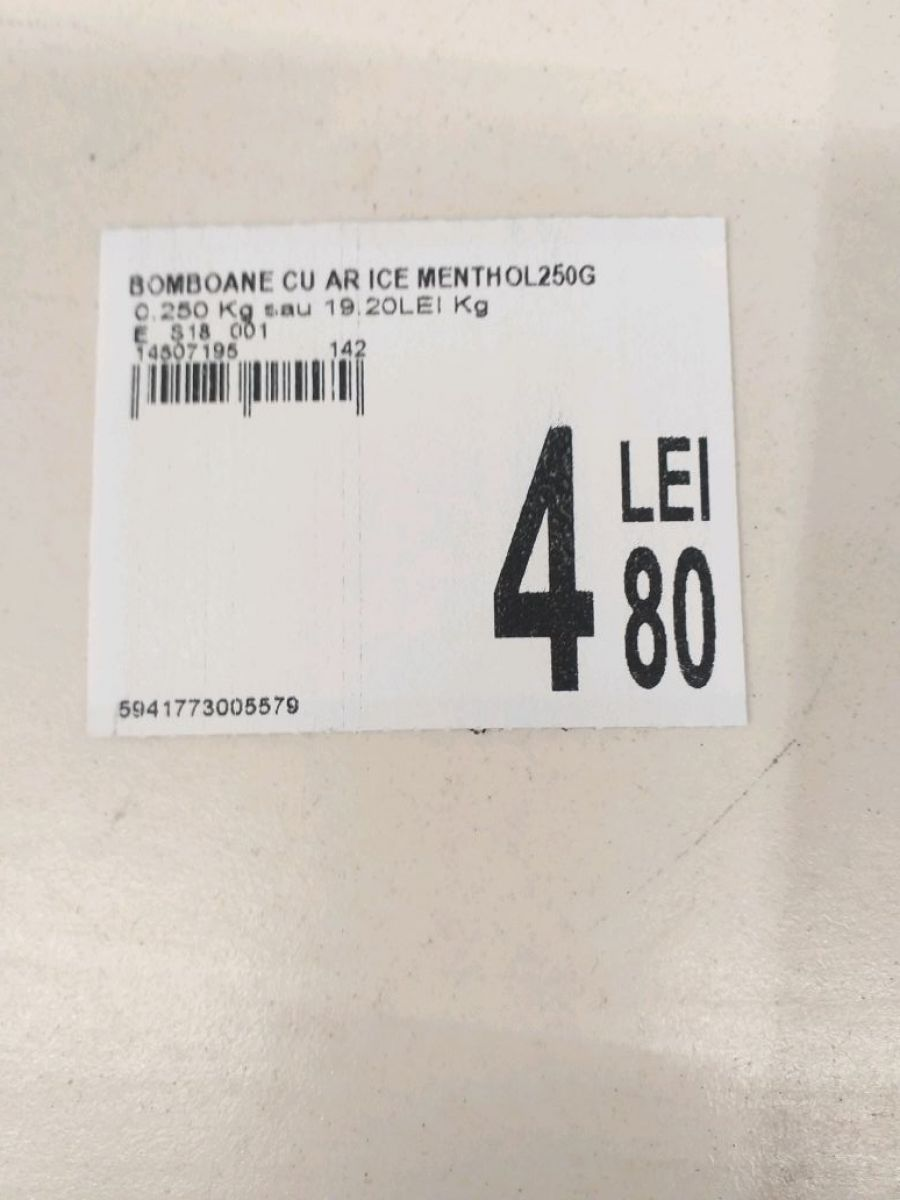bardcode: (113, 688, 304, 723)
list: (83, 215, 758, 747)
name: (126, 264, 602, 299)
price: (467, 412, 734, 707)
